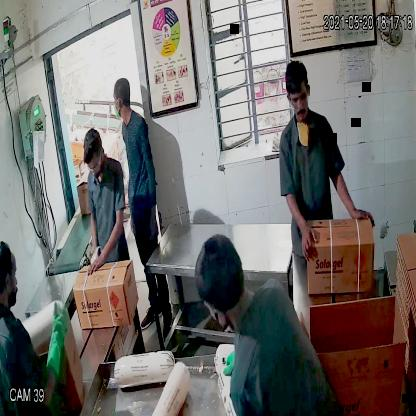goggles: (82, 157, 104, 176)
no_goggles: (284, 89, 314, 108)
